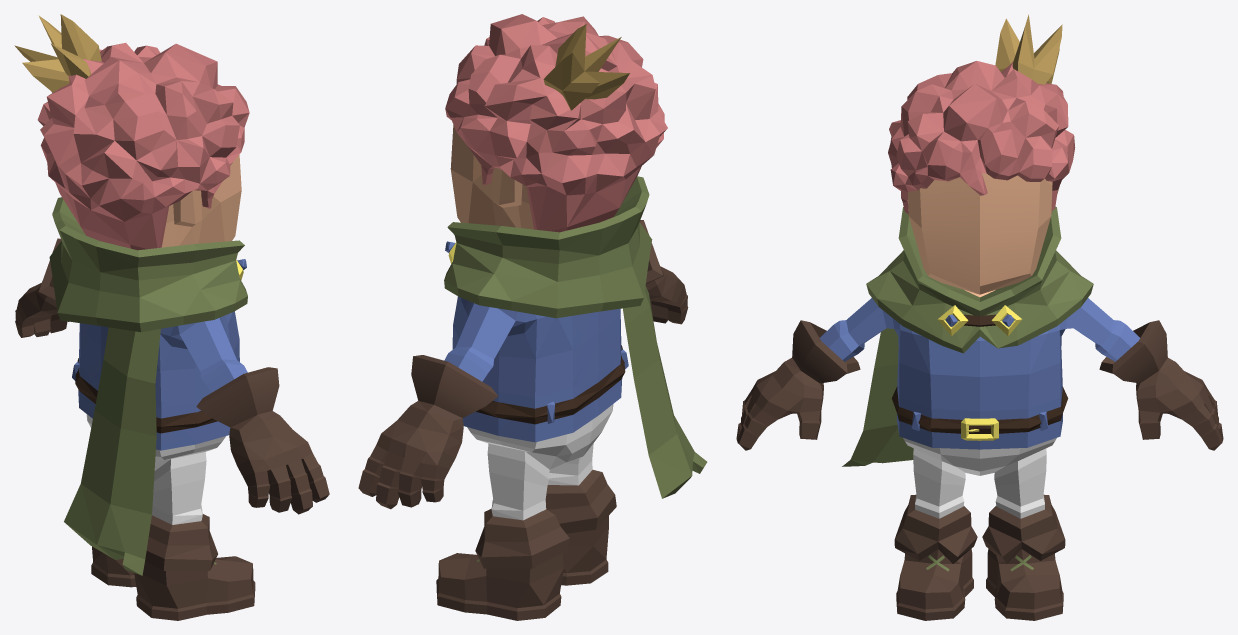
The model's file is demo2.glb.
3 renders of one model, left to right at view 1: azimuth 30°, elevation 25°; view 2: azimuth 150°, elevation 25°; view 3: azimuth 270°, elevation 25°, orthographic. The views are drawn at different scales.
Parts seen in each view (by area): view 1: Emitter; view 2: Emitter; view 3: Emitter.
Part boxes in pixels (<box>): Emitter: <box>14,14,329,620</box>; Emitter: <box>358,14,707,620</box>; Emitter: <box>736,14,1223,620</box>.
Bounding box in the file's own units: 0.5457 × 1.6 × 1.31.
